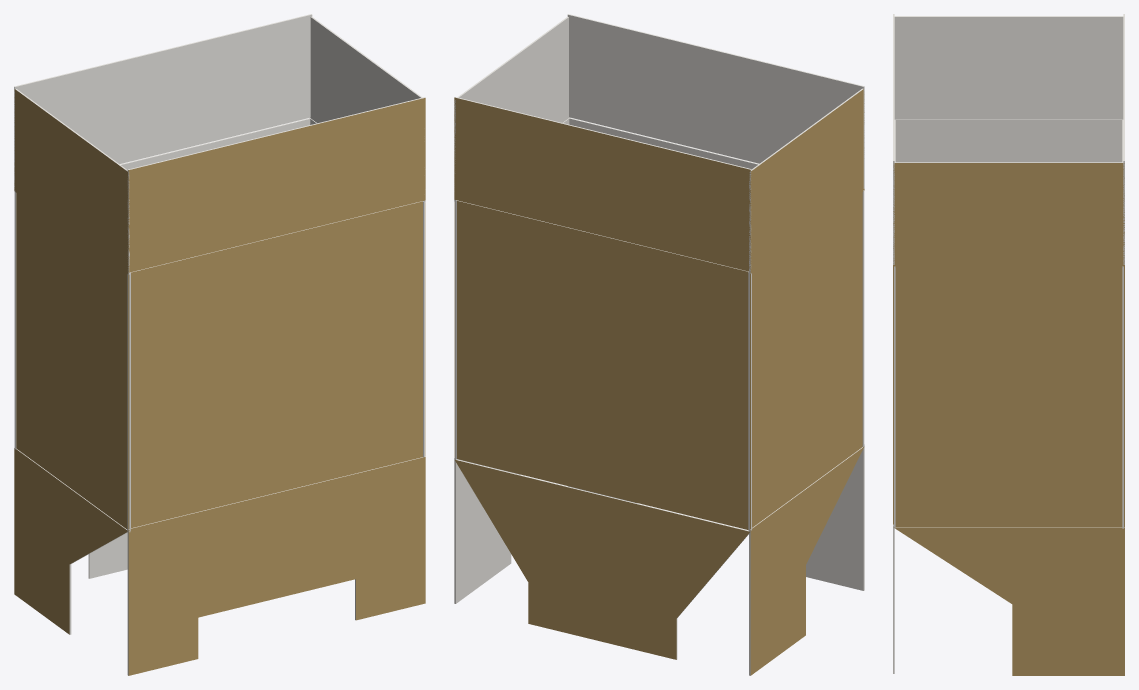
3 renders of one model, left to right at view 1: azimuth 30°, elevation 25°; view 2: azimuth 150°, elevation 25°; view 3: azimuth 270°, elevation 25°, orthographic.
Visible parts, largest first — view 1: Packive_Box_fefco0216; view 2: Packive_Box_fefco0216; view 3: Packive_Box_fefco0216.
Part boxes in pixels (left/top/right/bottom): Packive_Box_fefco0216: left=14, top=14, right=425, bottom=675; Packive_Box_fefco0216: left=454, top=14, right=864, bottom=675; Packive_Box_fefco0216: left=893, top=14, right=1124, bottom=675.
Size of the model in its own units: 0.3 by 0.492 by 0.2.
26 materials, 13 textured.
